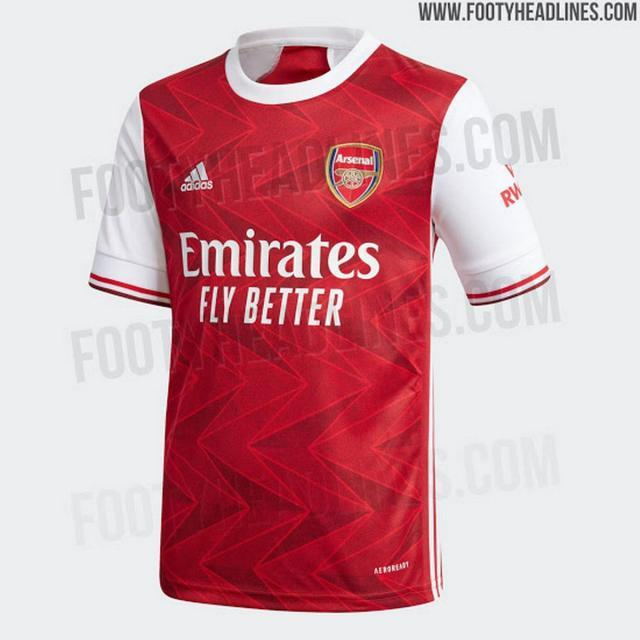Adidas: (175, 159, 215, 194)
Emirates: (176, 228, 380, 280)
